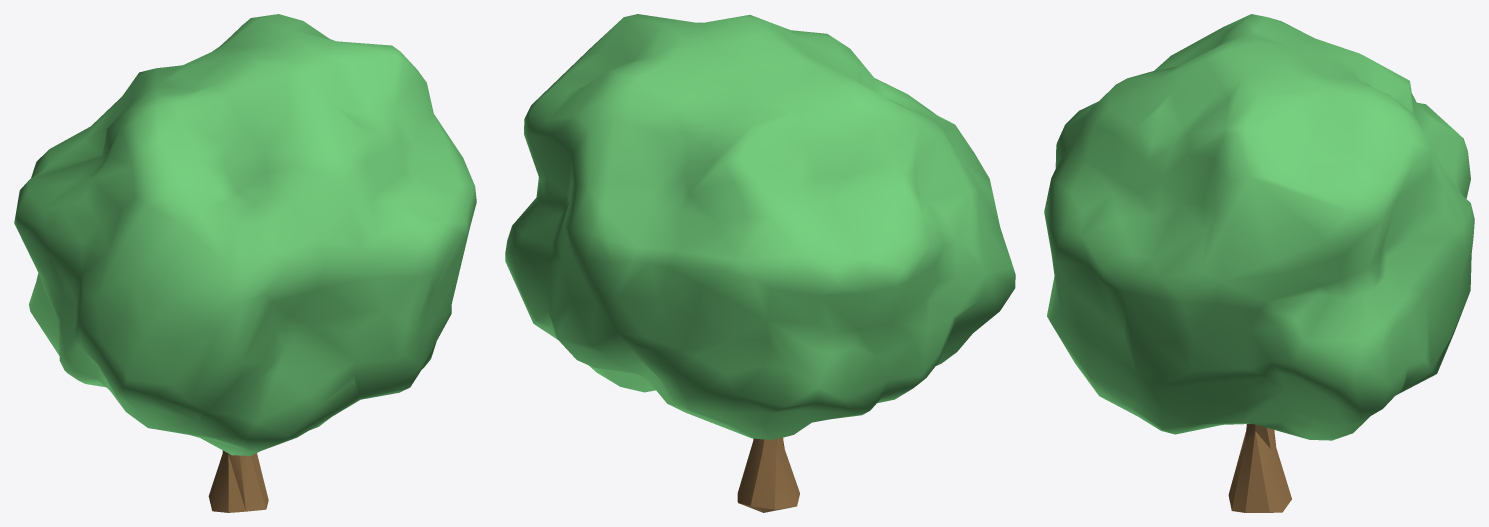
The model's file is maple.glb.
3 renders of one model, left to right at view 1: azimuth 30°, elevation 25°; view 2: azimuth 150°, elevation 25°; view 3: azimuth 270°, elevation 25°, orthographic. The views are drawn at different scales.
Visible parts, largest first — view 1: maple_leaves_3, maple_trunk_3; view 2: maple_leaves_3, maple_trunk_3; view 3: maple_leaves_3, maple_trunk_3.
Boxes of the visible parts, x1=… form: maple_leaves_3: x1=14, y1=14, x2=476, y2=455; maple_trunk_3: x1=208, y1=450, x2=268, y2=512; maple_leaves_3: x1=505, y1=14, x2=1015, y2=439; maple_trunk_3: x1=737, y1=437, x2=799, y2=512; maple_leaves_3: x1=1044, y1=14, x2=1474, y2=440; maple_trunk_3: x1=1228, y1=424, x2=1291, y2=512.
Bounding box in the file's own units: 14.2 × 15.4 × 12.65.
